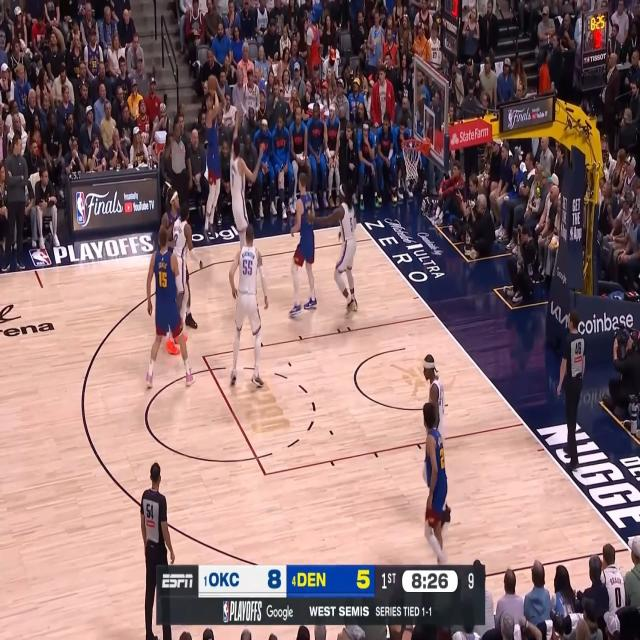ball: (208, 74, 218, 92)
number: (242, 259, 253, 277), (157, 272, 168, 288), (349, 215, 354, 232)
player: (145, 227, 196, 388), (306, 182, 358, 319), (228, 224, 268, 388), (165, 202, 203, 356), (423, 353, 453, 531), (422, 402, 449, 564), (289, 171, 318, 319)
player-jump-shot: (202, 74, 226, 241)
player-screen: (158, 187, 198, 333)
player-shot-block: (229, 109, 264, 252)
referee: (140, 462, 174, 640), (555, 310, 586, 472), (164, 121, 193, 225)
rim: (400, 138, 422, 150)
